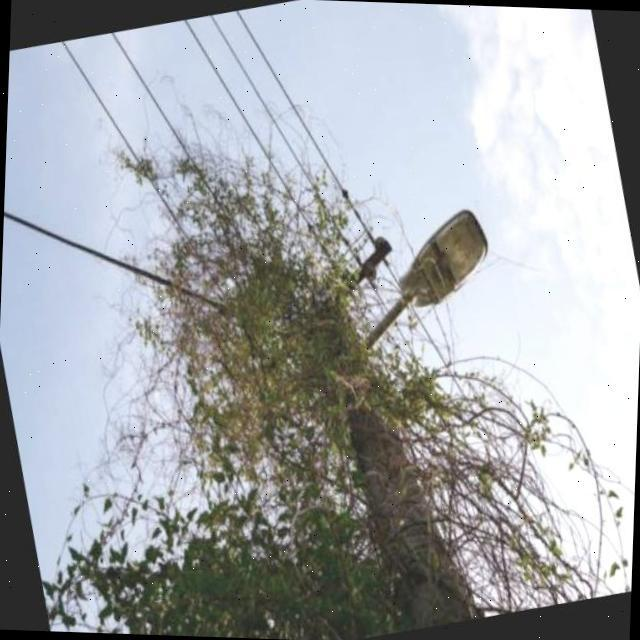critical vegetation: (96, 78, 487, 640)
